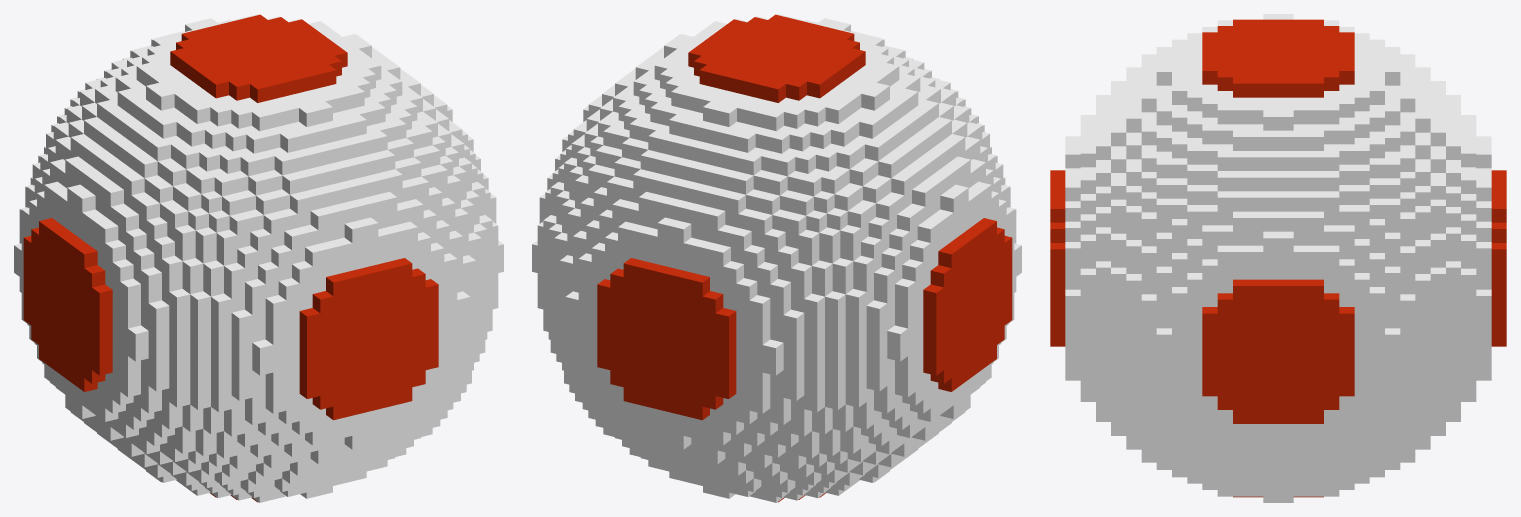
The model's file is Character_1.fbx.
3 views of the same model, side by side, from view 1: azimuth 30°, elevation 25°; view 2: azimuth 150°, elevation 25°; view 3: azimuth 270°, elevation 25° (orthographic).
Visible parts, largest first — view 1: Character_1; view 2: Character_1; view 3: Character_1.
Part boxes in pixels (box(x1,y1,x2,y2)): Character_1: box(14, 14, 503, 502); Character_1: box(532, 14, 1021, 502); Character_1: box(1050, 14, 1506, 502).
Bounding box in the file's own units: 30 × 30 × 30.
Materials: 1 (1 with a texture image).
